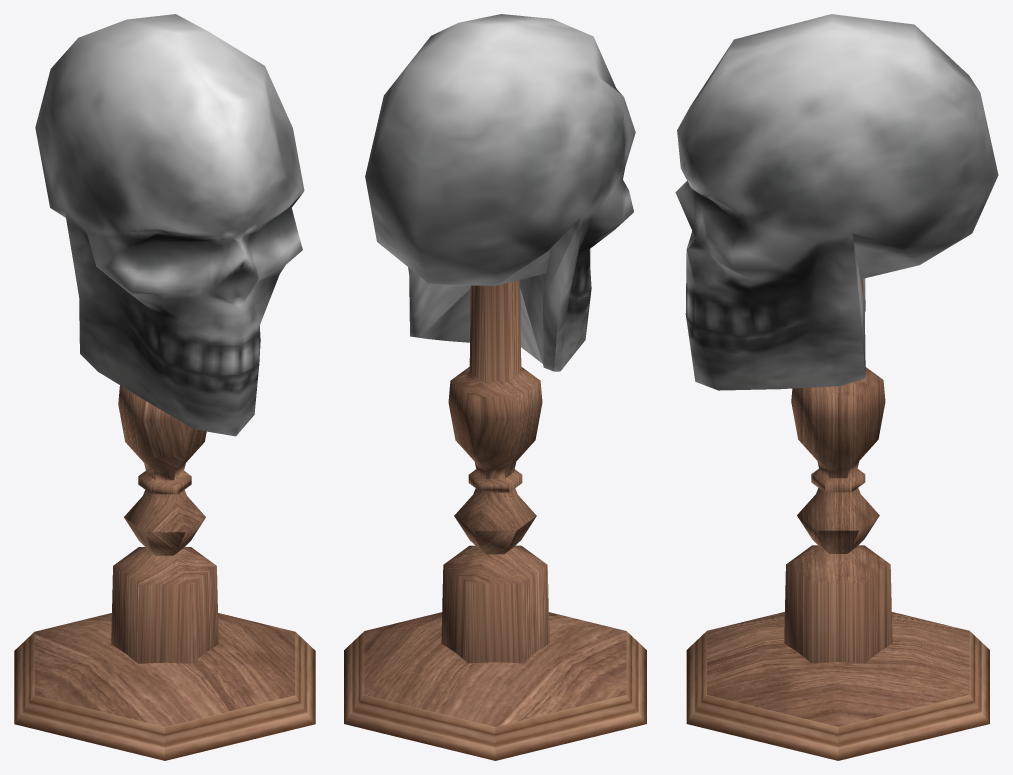
File: shop_tailor_hatStandSkull.fbx
The picture shows the model from 3 angles, left to right: view 1: azimuth 30°, elevation 25°; view 2: azimuth 150°, elevation 25°; view 3: azimuth 270°, elevation 25°; orthographic projection.
Visible parts, largest first — view 1: hatStand_skull, hatStand_support, hatStand_base, hatStand_base1; view 2: hatStand_skull, hatStand_support, hatStand_base, hatStand_base1; view 3: hatStand_skull, hatStand_support, hatStand_base, hatStand_base1.
Boxes of the visible parts, x1=… form: hatStand_skull: x1=35, y1=14, x2=304, y2=436; hatStand_support: x1=111, y1=385, x2=218, y2=663; hatStand_base: x1=34, y1=613, x2=295, y2=726; hatStand_base1: x1=14, y1=632, x2=315, y2=760; hatStand_skull: x1=365, y1=14, x2=635, y2=371; hatStand_support: x1=441, y1=280, x2=549, y2=663; hatStand_base: x1=364, y1=612, x2=626, y2=726; hatStand_base1: x1=344, y1=631, x2=646, y2=760; hatStand_skull: x1=675, y1=14, x2=998, y2=390; hatStand_support: x1=784, y1=279, x2=892, y2=662; hatStand_base: x1=707, y1=612, x2=969, y2=726; hatStand_base1: x1=686, y1=631, x2=989, y2=760.
Bounding box in the file's own units: 74.12 × 154 × 68.37.
Materials: 1 (1 with a texture image).
